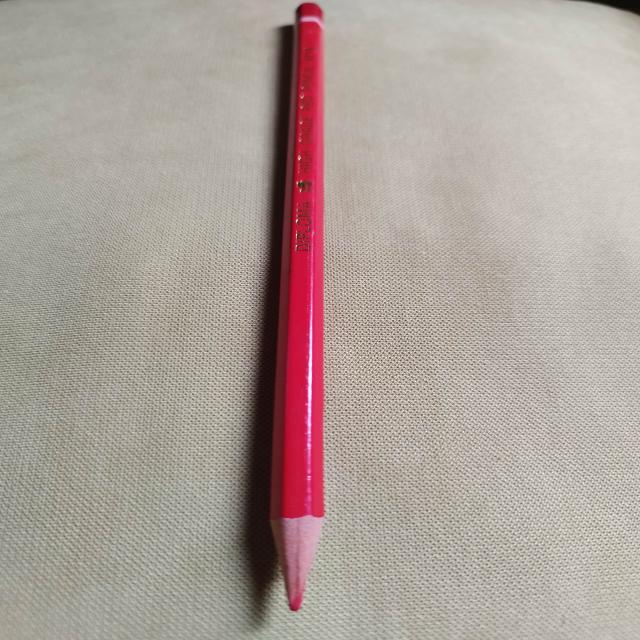pencil: (269, 2, 326, 611)
